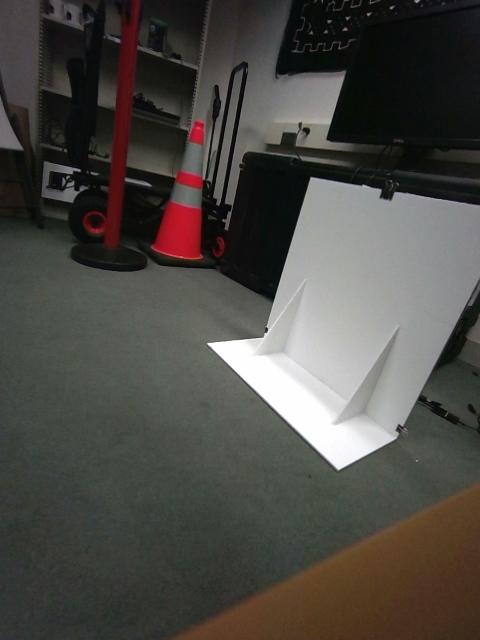block: (201, 358, 255, 438)
